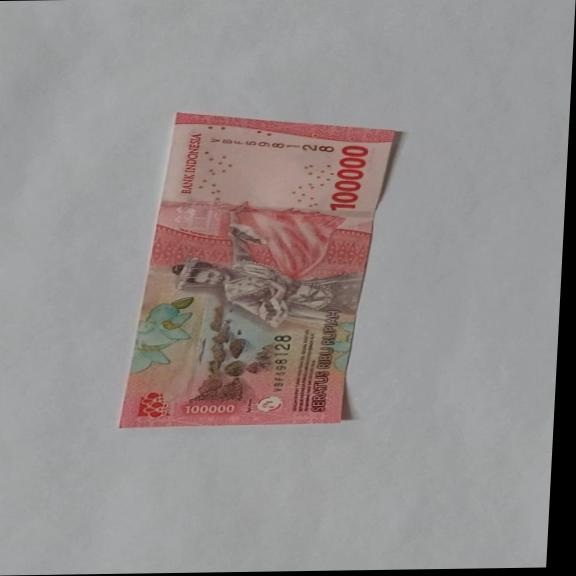Kertas: (118, 108, 402, 428), (327, 144, 370, 210)
